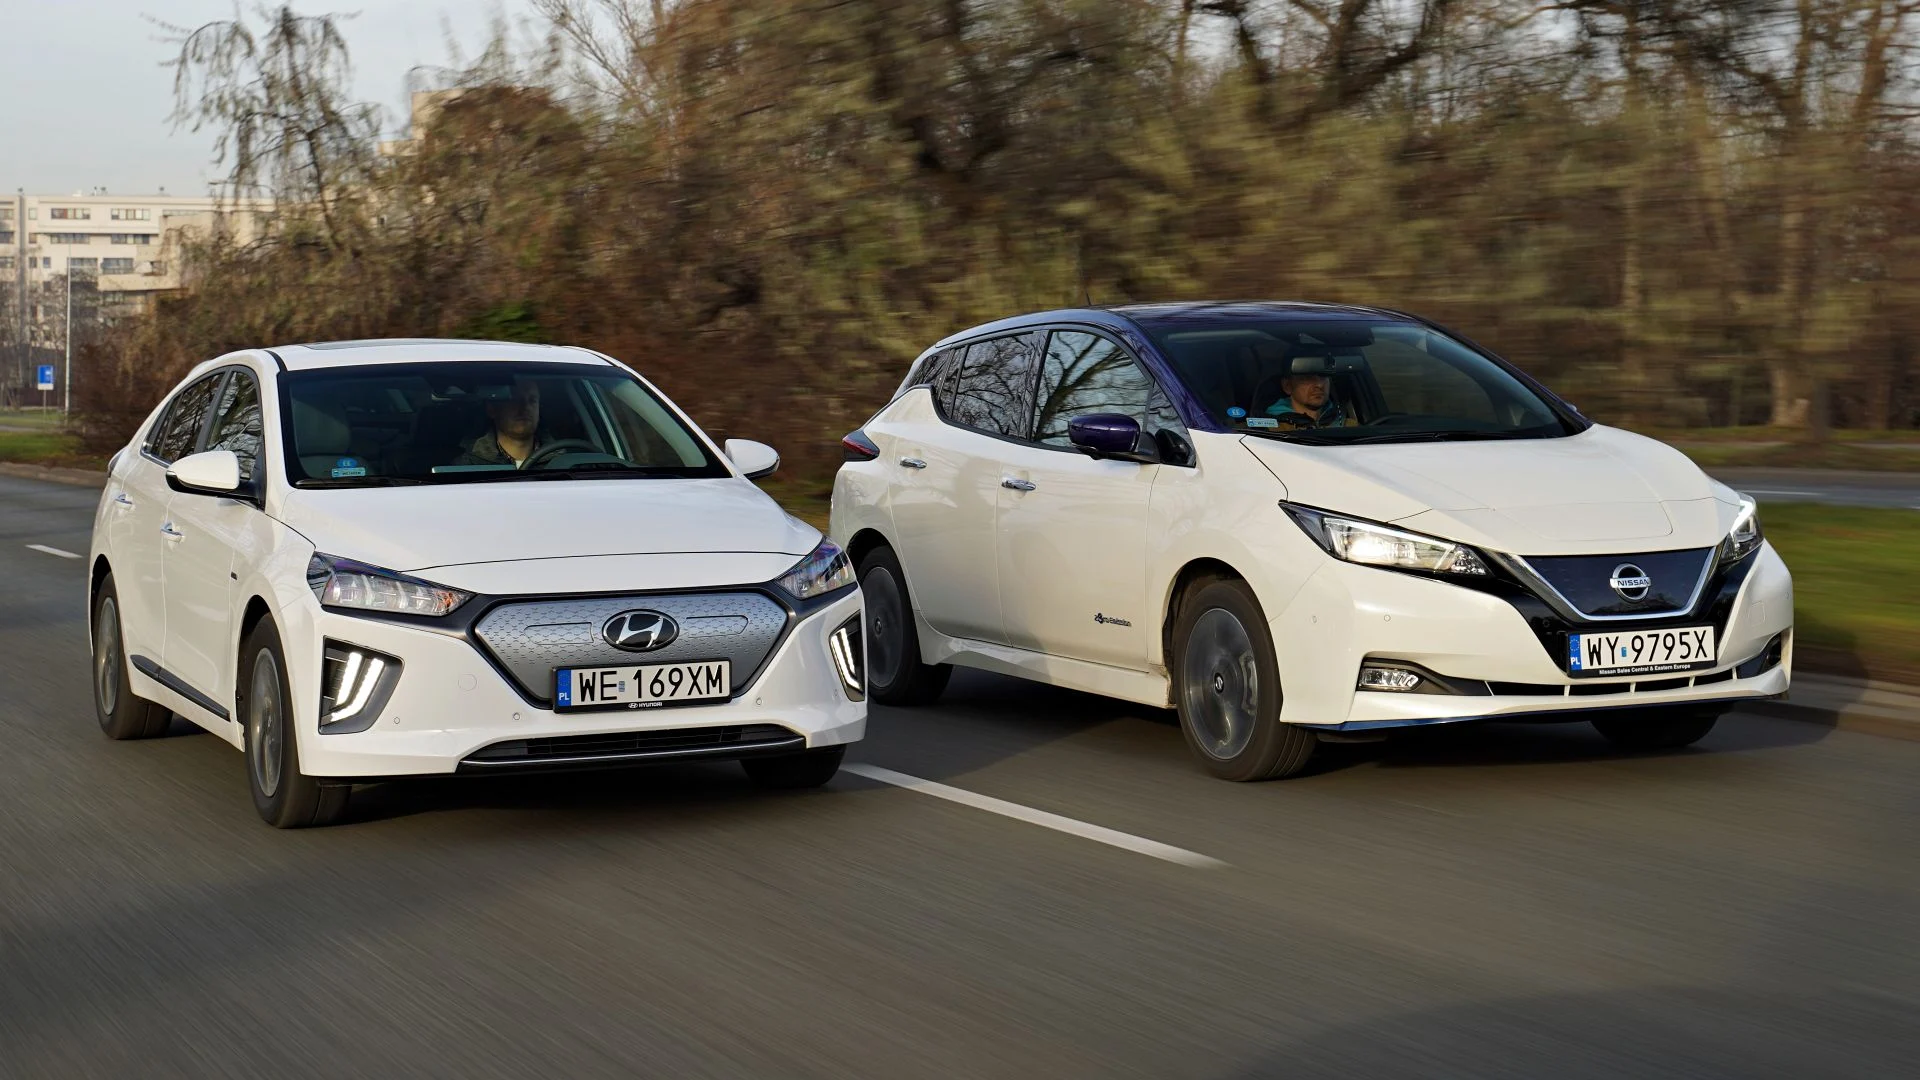tablica: (553, 661, 729, 702), (1573, 634, 1718, 670)
